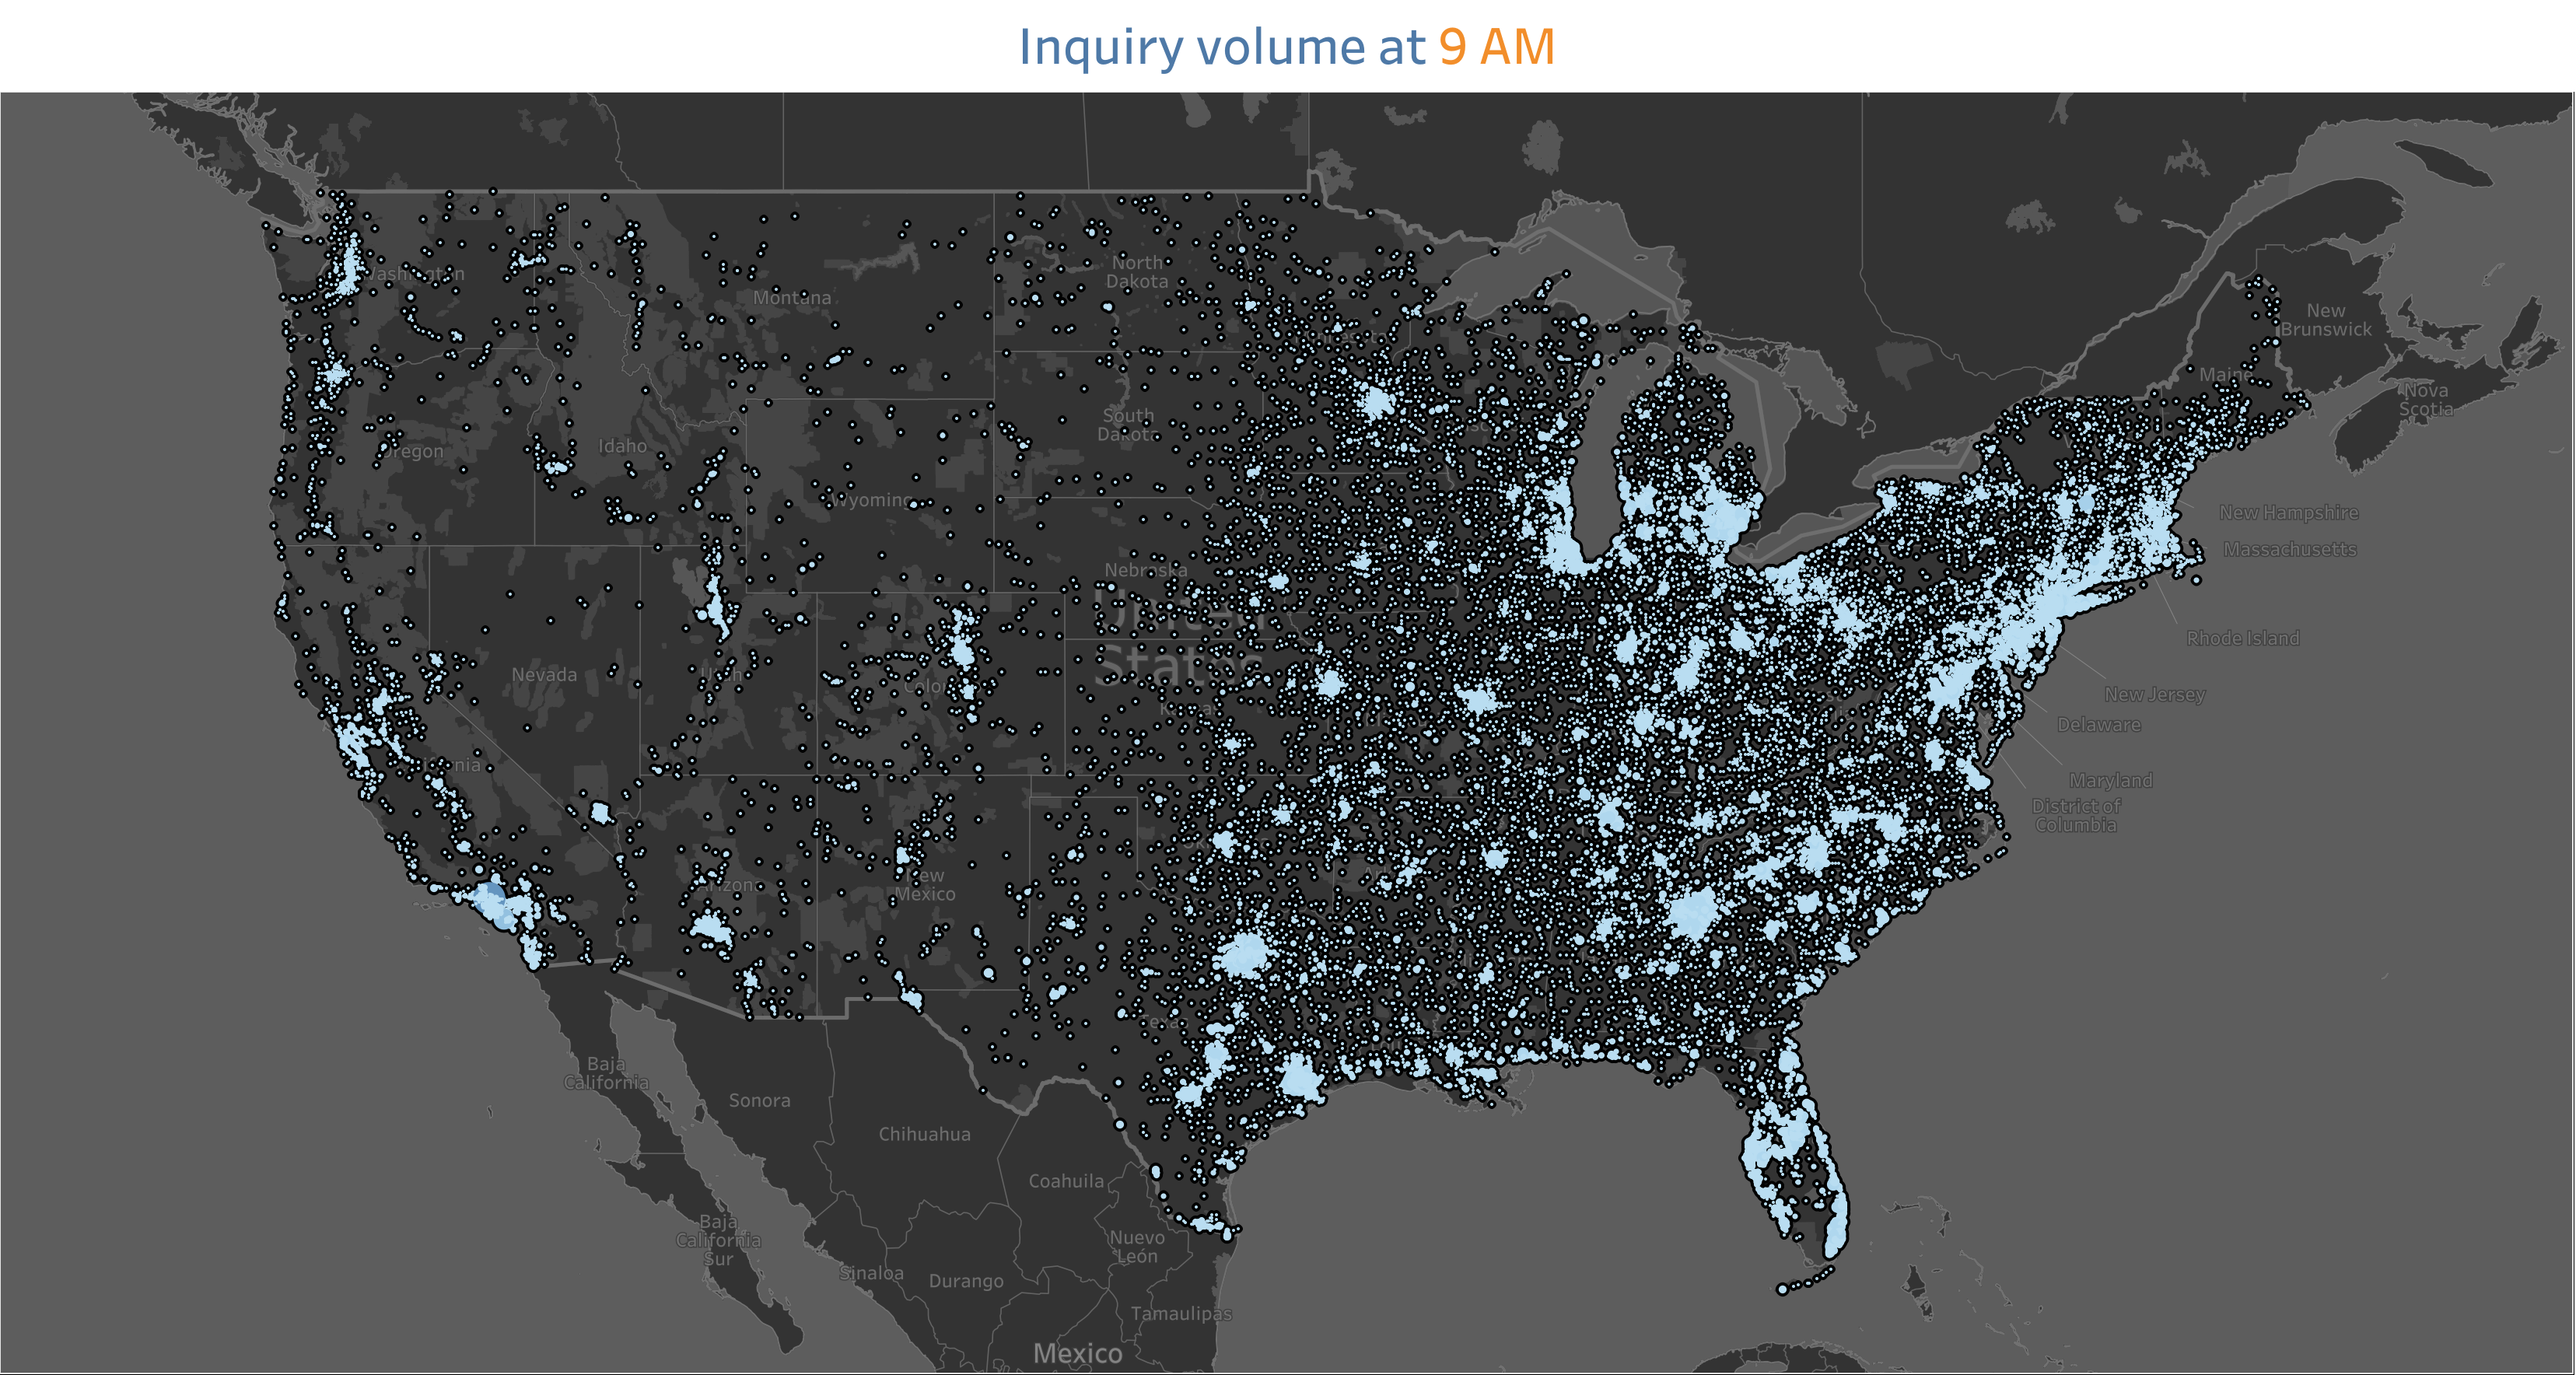

The page's visual inventory and layout, read from the dashboard file:
{"tool":"tableau","page":{"name":"Dashboard 1","canvas":[1000,1000],"units":"permille","ordinal":0},"visuals":[{"type":"worksheet","title":"Sheet 1","mark":"Automatic","box":[4.7,8.8,990.6,982.3]},{"type":"currpage","title":"Sheet 1","box":[883,30.9,87.8,105]}]}

Visuals, with their boxes on the dashboard's canvas, which has no fixed pixel size, in thousandths of its width and height (x1, y1, x2, y2). These are canvas units, not pixel positions in the 2576x1375 screenshot, which may show the page scaled, cropped or inside an application window:
"Sheet 1" worksheet: {"left": 5, "top": 9, "right": 995, "bottom": 991}
"Sheet 1" currpage: {"left": 883, "top": 31, "right": 971, "bottom": 136}
